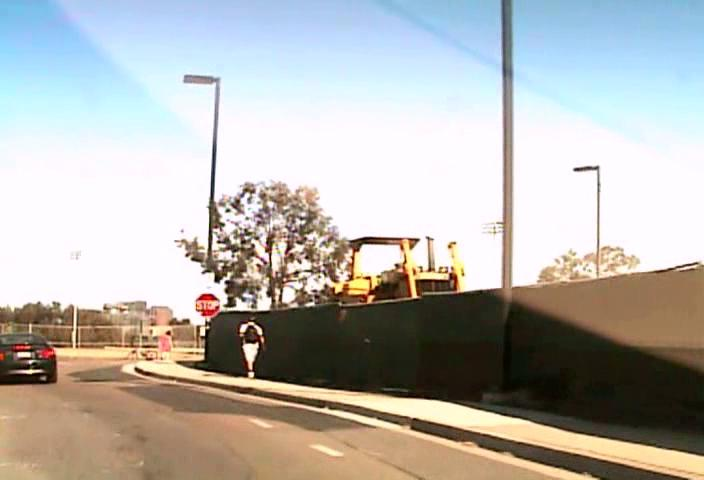stop: (194, 293, 220, 317)
